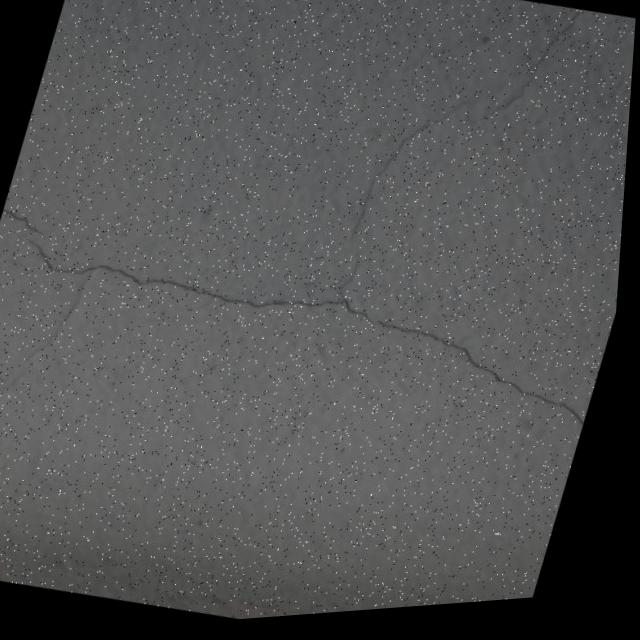Crack: (0, 164, 629, 555), (304, 0, 582, 338)
